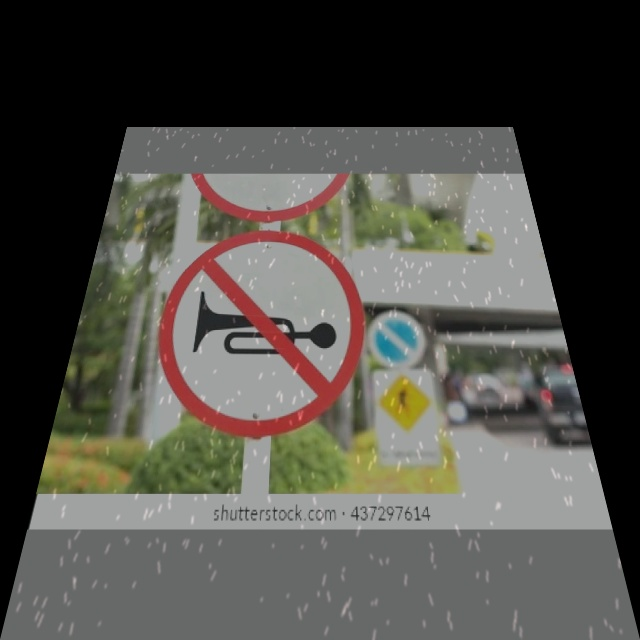Horn_Prohibited: (141, 231, 370, 434)
